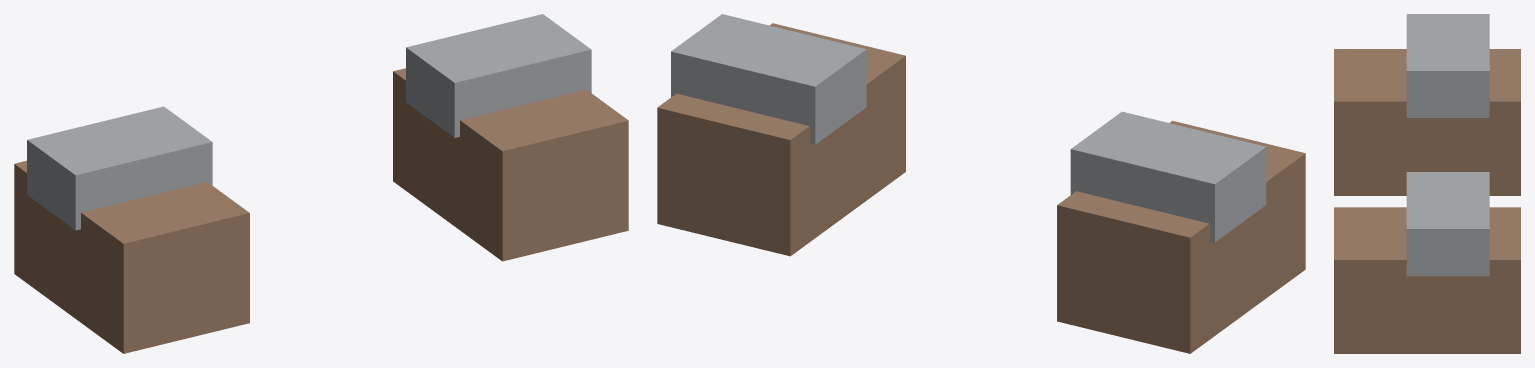
Rendered from A03_Tier1_ShockGloves.glb.
The picture shows the model from 3 angles, left to right: view 1: azimuth 30°, elevation 25°; view 2: azimuth 150°, elevation 25°; view 3: azimuth 270°, elevation 25°; orthographic projection. The views are drawn at different scales.
Parts seen in each view (by area): view 1: SK_A03_ShockGlove_L, SK_A03_ShockGlove_R, SK_A03_Cuff_R, SK_A03_Cuff_L; view 2: SK_A03_ShockGlove_L, SK_A03_ShockGlove_R, SK_A03_Cuff_R, SK_A03_Cuff_L; view 3: SK_A03_ShockGlove_L, SK_A03_ShockGlove_R, SK_A03_Cuff_L, SK_A03_Cuff_R.
Part boxes in pixels (bbox=[...]): SK_A03_ShockGlove_L: bbox=[393, 68, 628, 261]; SK_A03_ShockGlove_R: bbox=[14, 160, 249, 353]; SK_A03_Cuff_R: bbox=[27, 106, 212, 230]; SK_A03_Cuff_L: bbox=[406, 14, 591, 137]; SK_A03_ShockGlove_L: bbox=[657, 23, 905, 256]; SK_A03_ShockGlove_R: bbox=[1057, 120, 1305, 353]; SK_A03_Cuff_R: bbox=[1070, 111, 1266, 242]; SK_A03_Cuff_L: bbox=[671, 14, 866, 144]; SK_A03_ShockGlove_L: bbox=[1334, 207, 1520, 353]; SK_A03_ShockGlove_R: bbox=[1334, 49, 1520, 195]; SK_A03_Cuff_L: bbox=[1406, 172, 1489, 276]; SK_A03_Cuff_R: bbox=[1406, 14, 1489, 117].
Size of the model in its own units: 0.49 by 0.135 by 0.18.
